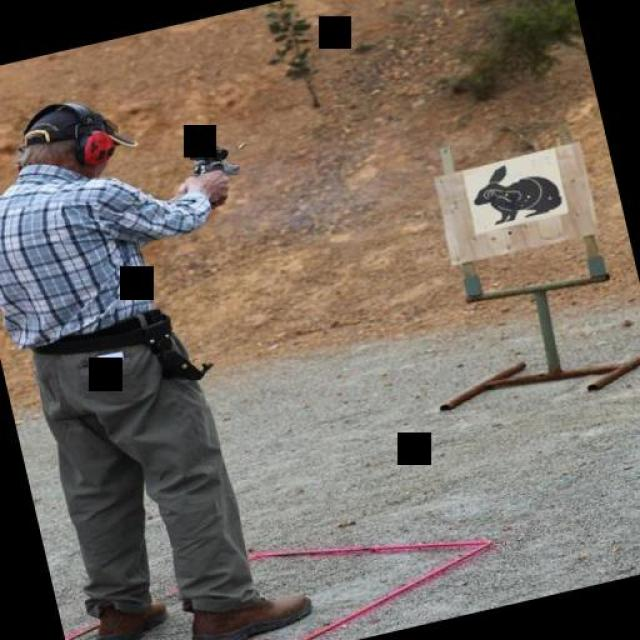gun: (171, 131, 249, 191)
